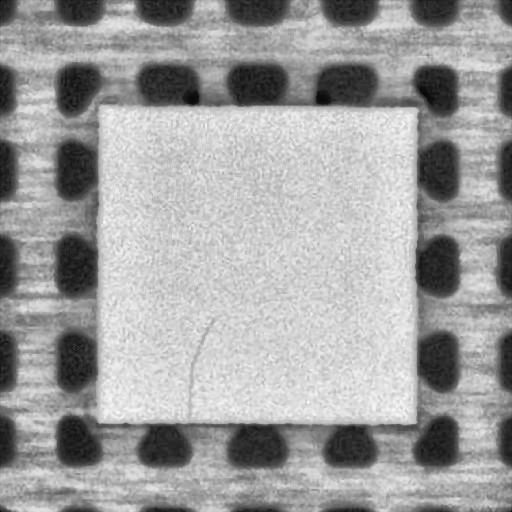DIE_CRACK: (186, 316, 214, 415)
